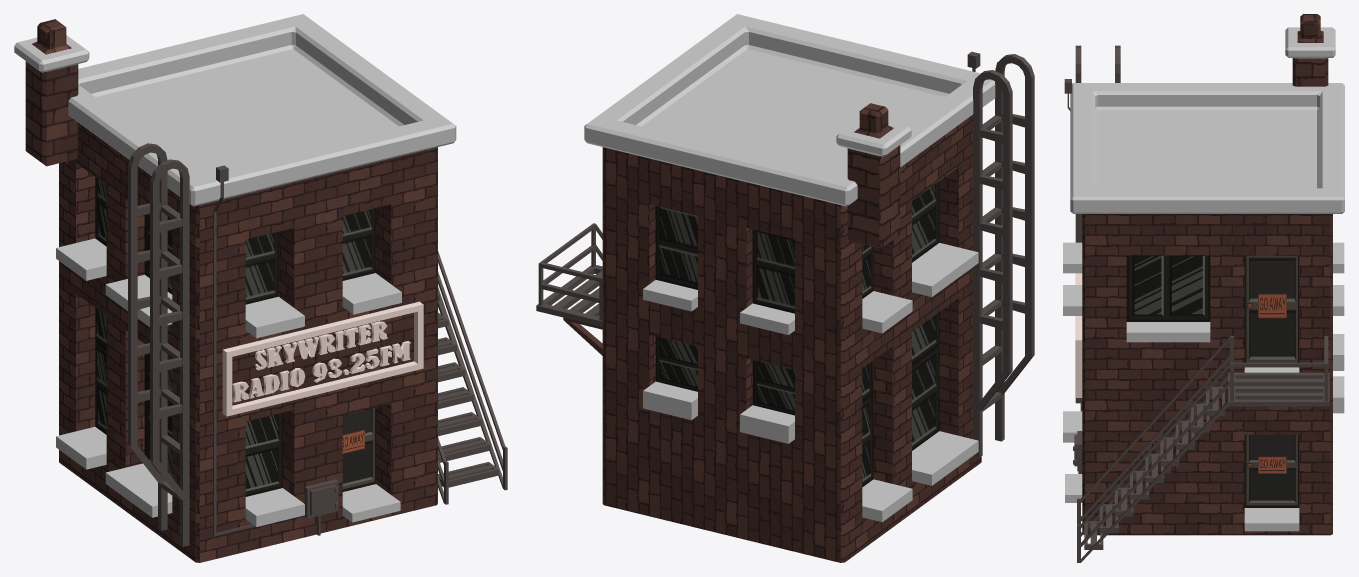
The model's file is RadioBuilding.fbx.
3 renders of one model, left to right at view 1: azimuth 30°, elevation 25°; view 2: azimuth 150°, elevation 25°; view 3: azimuth 270°, elevation 25°, orthographic. The views are drawn at different scales.
Parts seen in each view (by area): view 1: RadioBuilding; view 2: RadioBuilding; view 3: RadioBuilding.
Boxes of the visible parts, x1=… form: RadioBuilding: x1=14, y1=14, x2=507, y2=562; RadioBuilding: x1=536, y1=14, x2=1034, y2=562; RadioBuilding: x1=1063, y1=14, x2=1344, y2=562.
Size of the model in its own units: 15.34 by 18.54 by 11.72.
